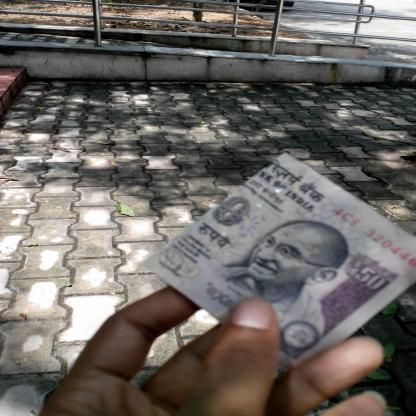Old50Front: (142, 151, 416, 368)
